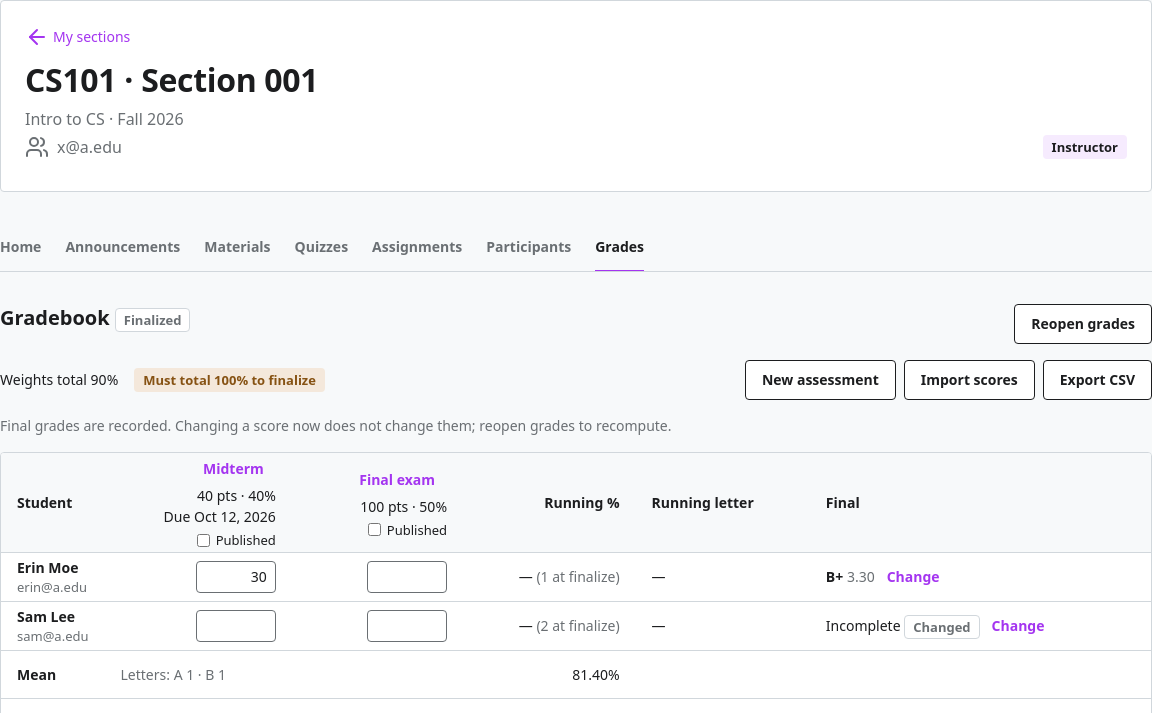
Test: finalized gradebook shows the Final column, Change buttons and reopens
This screenshot has width=1152, height=713.
Expected: the text "B+" is shown, [826, 567, 843, 586]
Expected: the text "Incomplete" is shown, [826, 616, 901, 635]
Click the button "Reopen grades". click: coordinates (1083, 324)
box: [1014, 304, 1151, 344]
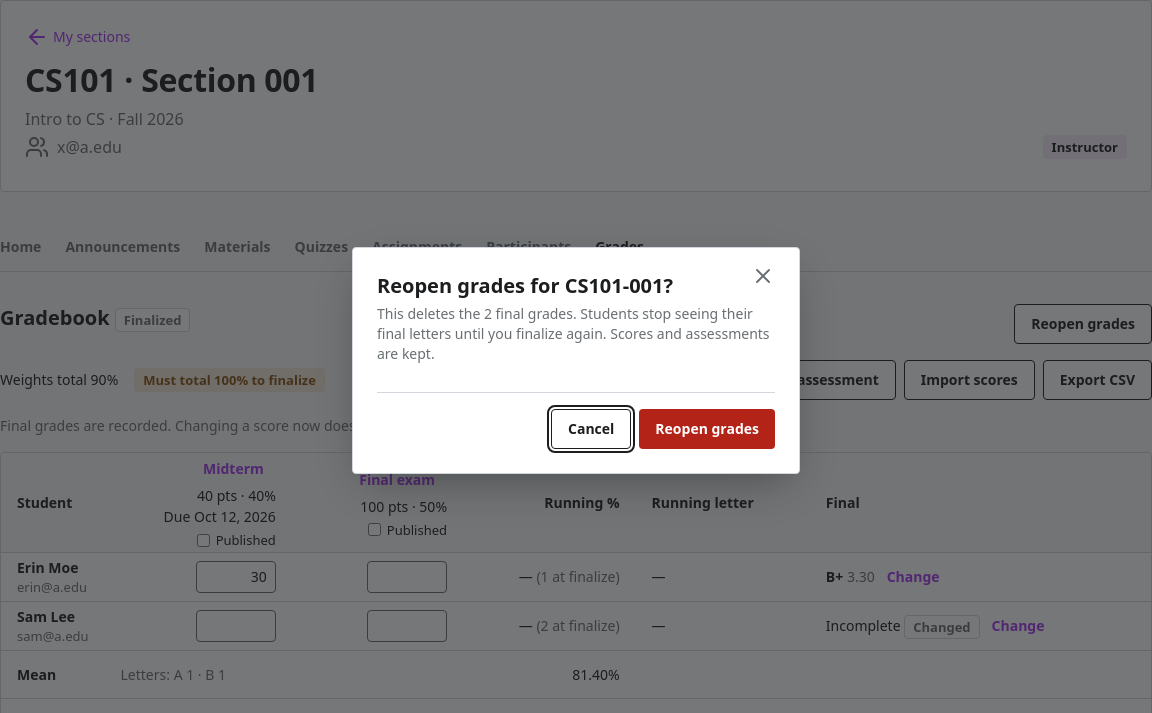
Now the text "This deletes the 2 final grades" is shown, box [377, 304, 770, 362]
Click the button "Reopen grades". click: coordinates (707, 428)
box: [639, 408, 775, 448]
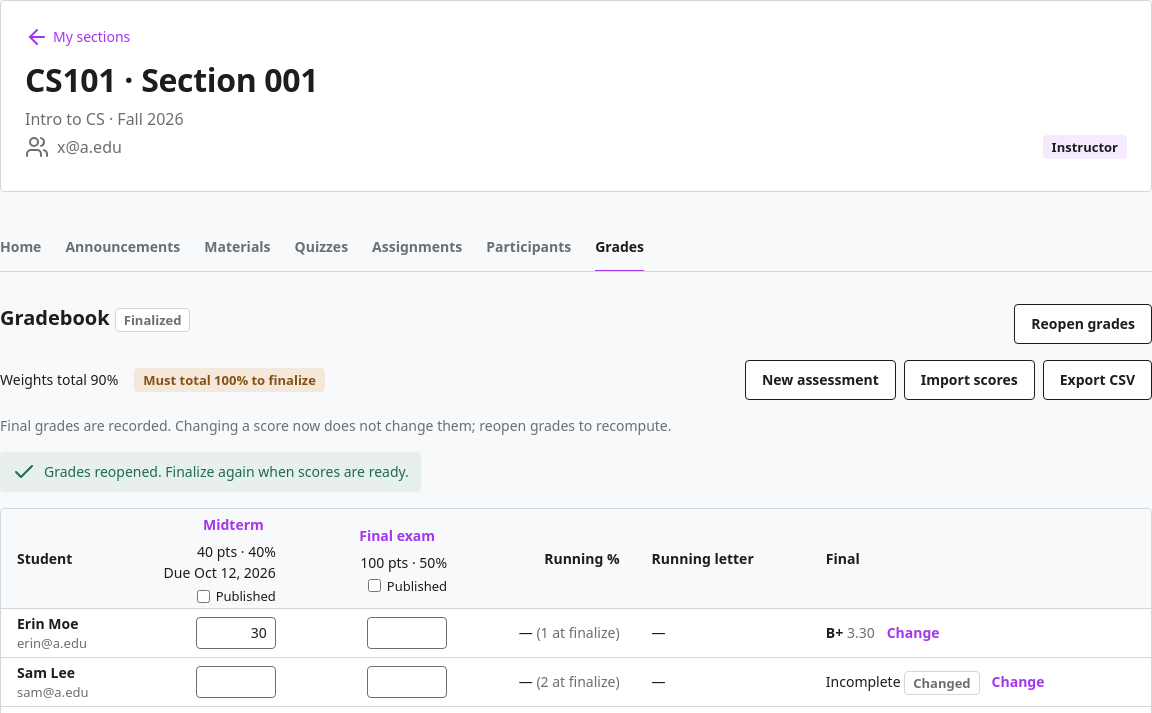
Now the text "Grades reopened. Finalize again when scores are ready." is shown, box [0, 452, 421, 492]
